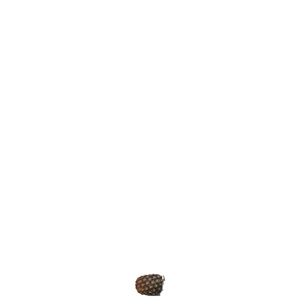abacaxi: (133, 273, 167, 297)
